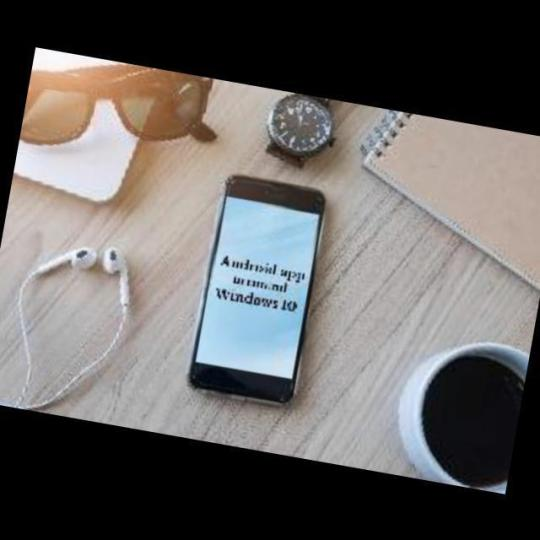phone: (190, 169, 329, 406)
